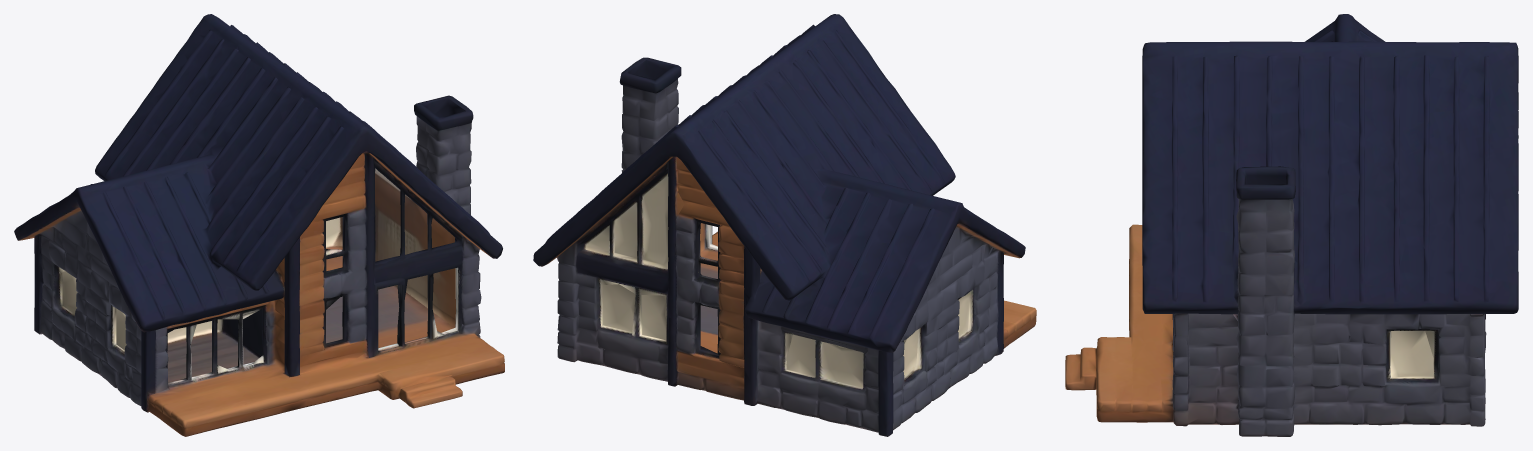
File: 16-casa.glb
The picture shows the model from 3 angles, left to right: view 1: azimuth 30°, elevation 25°; view 2: azimuth 150°, elevation 25°; view 3: azimuth 270°, elevation 25°; orthographic projection. The views are drawn at different scales.
Visible parts, largest first — view 1: tripo_node_66b9e828-cd5a-438f-bb33-1ea41c2ef9e3; view 2: tripo_node_66b9e828-cd5a-438f-bb33-1ea41c2ef9e3; view 3: tripo_node_66b9e828-cd5a-438f-bb33-1ea41c2ef9e3.
Part boxes in pixels (box(x1,y1,x2,y2)): tripo_node_66b9e828-cd5a-438f-bb33-1ea41c2ef9e3: box(14, 14, 504, 436); tripo_node_66b9e828-cd5a-438f-bb33-1ea41c2ef9e3: box(533, 14, 1036, 436); tripo_node_66b9e828-cd5a-438f-bb33-1ea41c2ef9e3: box(1065, 14, 1518, 436).
Size of the model in its own units: 1 by 0.7087 by 0.9376.
1 material, 1 textured.
